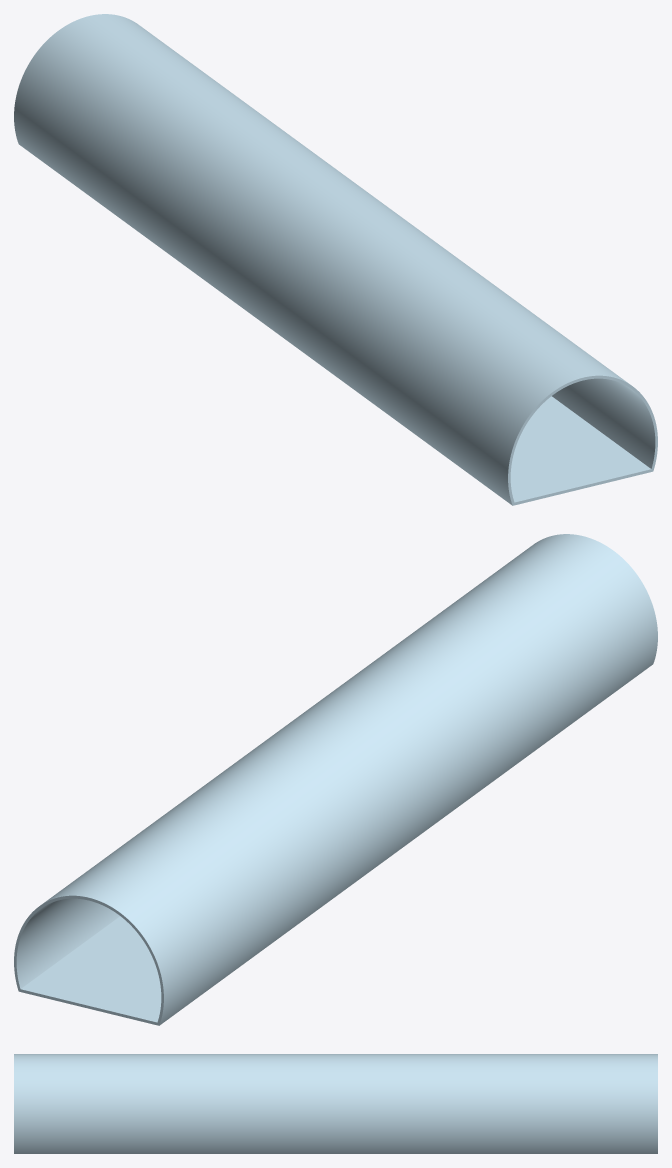
The model's file is túnel del metro.gltf.
3 renders of one model, top to bottom at view 1: azimuth 30°, elevation 25°; view 2: azimuth 150°, elevation 25°; view 3: azimuth 270°, elevation 25°, orthographic. The views are drawn at different scales.
Parts seen in each view (by area): view 1: Part 1; view 2: Part 1; view 3: Part 1.
Boxes of the visible parts, box(x1,y1,x2,y2) form: Part 1: box(14, 14, 657, 505); Part 1: box(14, 534, 657, 1025); Part 1: box(14, 1054, 657, 1153).
Size of the model in its own units: 17.52 by 12.4 by 100.
